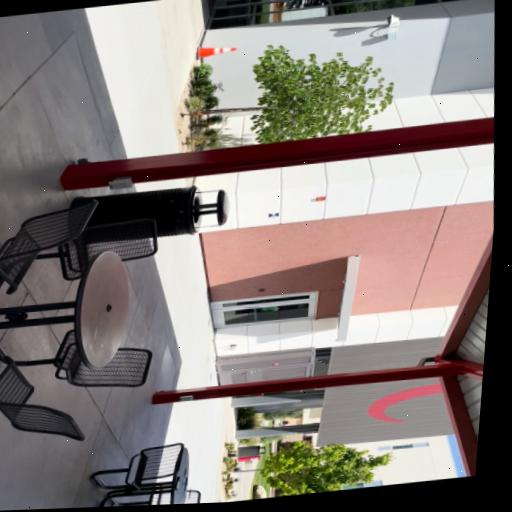target6: (268, 213, 279, 218)
